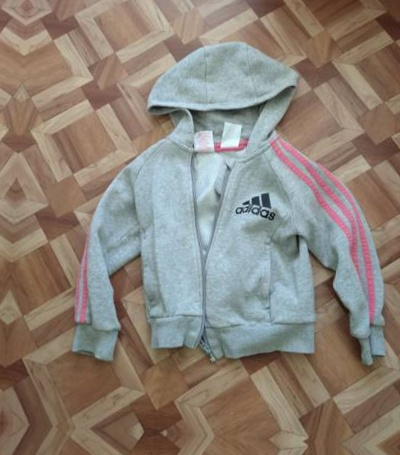Hoodie: (40, 17, 400, 389)
